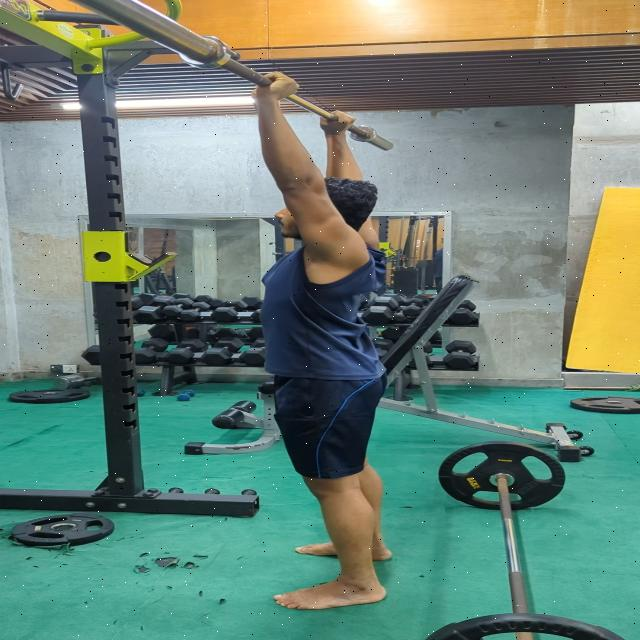Normal_OverheadPress: (198, 55, 426, 622)
